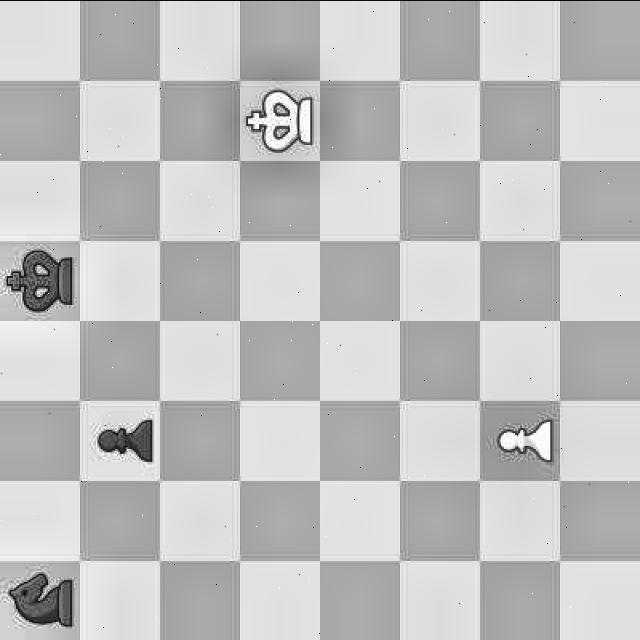Black Knight: (1, 565, 74, 632)
black king: (1, 240, 81, 313)
black pawn: (82, 400, 158, 480)
white king: (242, 78, 318, 162)
white pawn: (480, 400, 562, 477)
